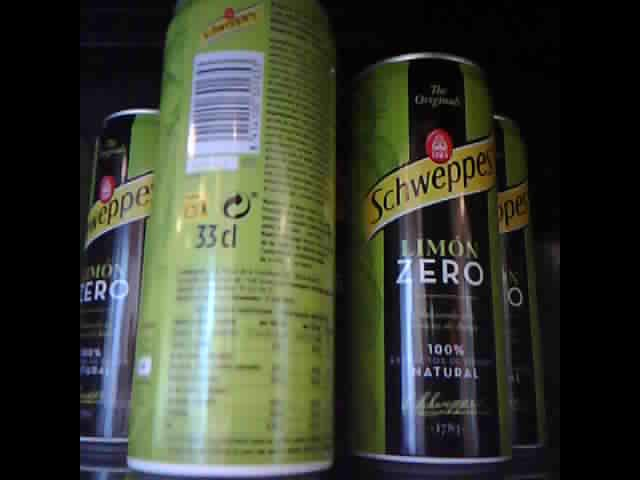schweppes: (123, 5, 340, 478), (353, 30, 514, 479), (80, 84, 161, 449), (478, 92, 534, 468)
